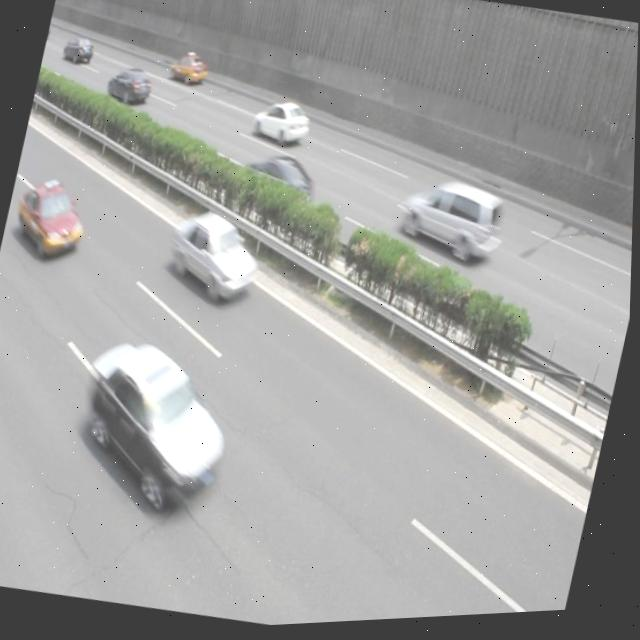car: (65, 331, 256, 534), (162, 205, 269, 314), (11, 172, 95, 268), (234, 147, 324, 225), (250, 98, 315, 154), (104, 66, 155, 114), (168, 50, 212, 92)
truck: (396, 174, 513, 275)
